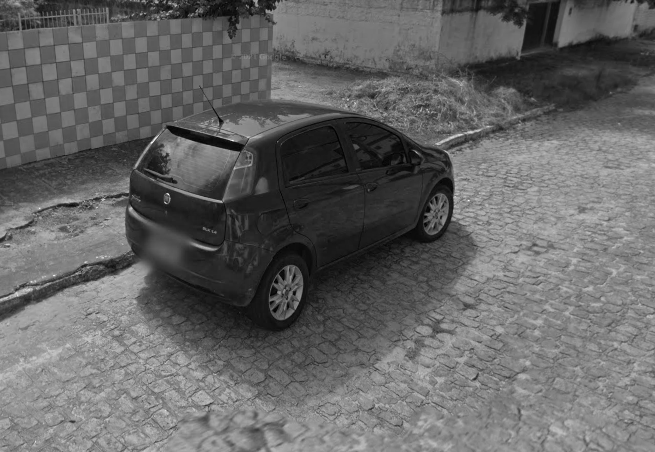car: (122, 84, 468, 333)
